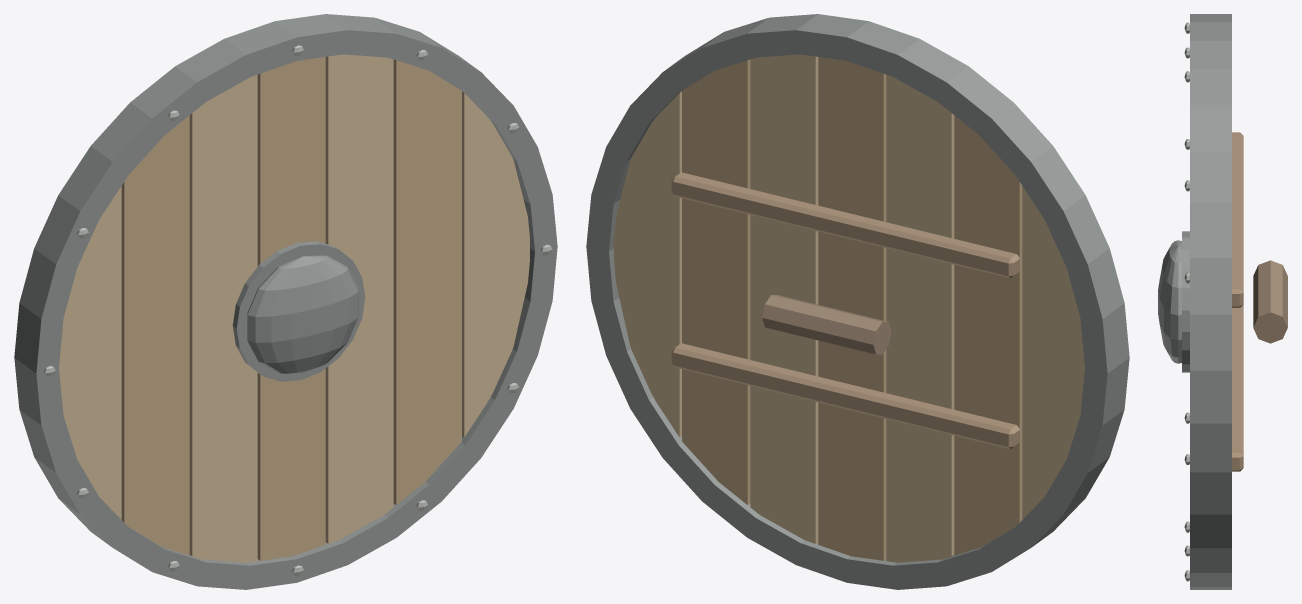
File: shield.glb
3 renders of one model, left to right at view 1: azimuth 30°, elevation 25°; view 2: azimuth 150°, elevation 25°; view 3: azimuth 270°, elevation 25°, orthographic. The views are drawn at different scales.
Parts seen in each view (by area): view 1: Continuous_Iron_Rim, Board_2, Board_4, Board_5, Board_1, Board_3, Board_6, Board_0, Low_Iron_Umbo, Boss_Flange; view 2: Continuous_Iron_Rim, Board_2, Board_3, Board_4, Board_5, Board_1, Board_6, Board_0, Rear_Brace_0.103, Rear_Brace_0.197, Hand_Grip; view 3: Continuous_Iron_Rim, Hand_Grip, Low_Iron_Umbo, Rear_Brace_0.197, Rear_Brace_0.103, Boss_Flange.
Boxes of the visible parts, box(x1,y1,x2,y2) form: Continuous_Iron_Rim: box(14, 14, 557, 589); Board_2: box(189, 74, 257, 562); Board_4: box(325, 54, 393, 543); Board_5: box(393, 59, 461, 504); Board_1: box(121, 115, 189, 555); Board_3: box(257, 57, 325, 560); Board_6: box(462, 91, 529, 437); Board_0: box(59, 186, 121, 519); Low_Iron_Umbo: box(247, 255, 358, 373); Boss_Flange: box(232, 241, 365, 381); Continuous_Iron_Rim: box(586, 14, 1129, 589); Board_2: box(886, 74, 954, 562); Board_3: box(818, 57, 886, 560); Board_4: box(750, 54, 818, 543); Board_5: box(682, 59, 750, 504); Board_1: box(954, 115, 1022, 555); Board_6: box(614, 91, 681, 437); Board_0: box(1022, 186, 1084, 519); Rear_Brace_0.103: box(671, 343, 1019, 449); Rear_Brace_0.197: box(671, 172, 1019, 278); Hand_Grip: box(762, 295, 891, 354); Continuous_Iron_Rim: box(1190, 14, 1231, 589); Hand_Grip: box(1253, 260, 1287, 343); Low_Iron_Umbo: box(1158, 240, 1181, 363); Rear_Brace_0.197: box(1232, 132, 1243, 307); Rear_Brace_0.103: box(1232, 305, 1243, 471); Boss_Flange: box(1182, 231, 1189, 372).
Size of the model in its own units: 0.3 by 0.3 by 0.0675.
